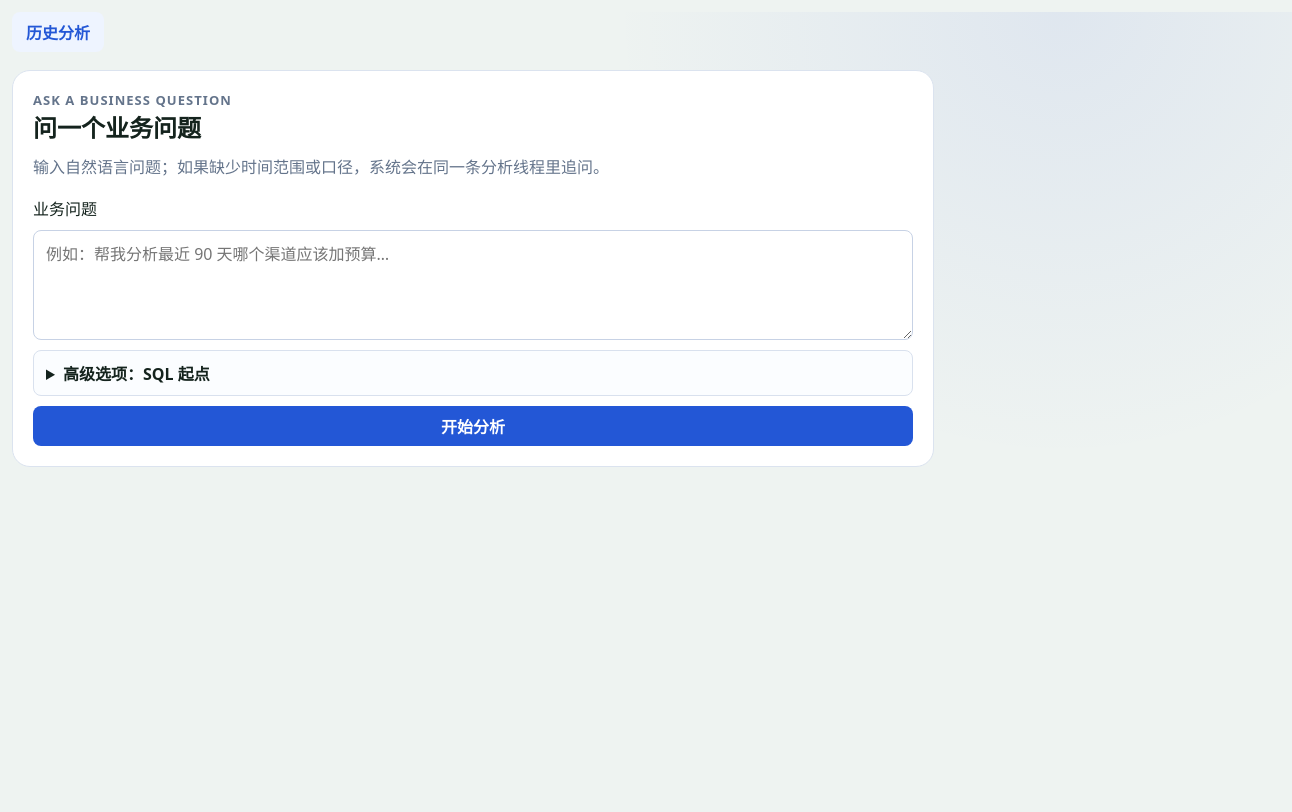
Test: workspace product components › submits analysis questions and stores the run result for the detail page
The width and height of the screenshot is (1292, 812).
Expected: the element "历史分析" is shown, [12,12,104,52]
Expected: the heading "问一个业务问题" is shown, [33,111,201,144]
Type "哪个渠道收入最高？" into the text box labelled "业务问题". click: (473, 285)
box: [33,230,913,340]
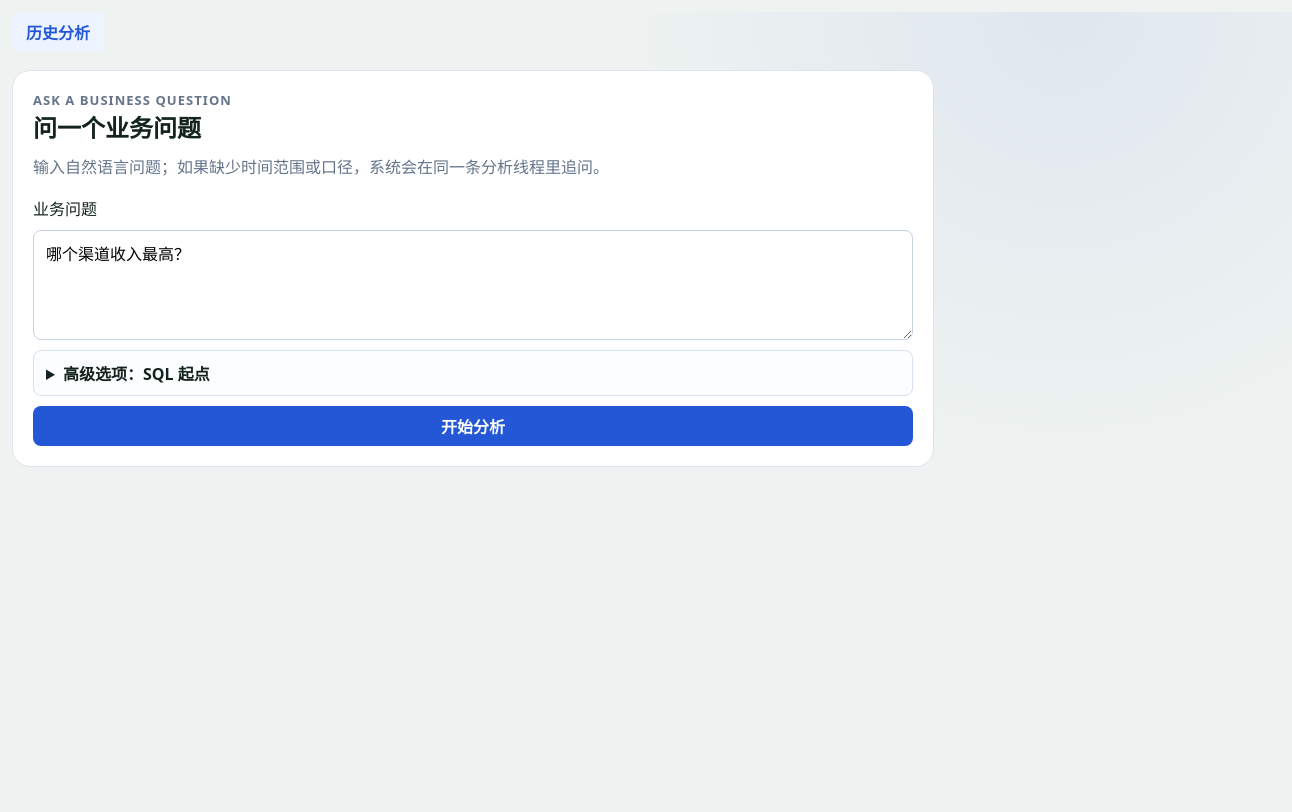
Click the button "开始分析". click: (473, 426)
box: [33,406,913,446]
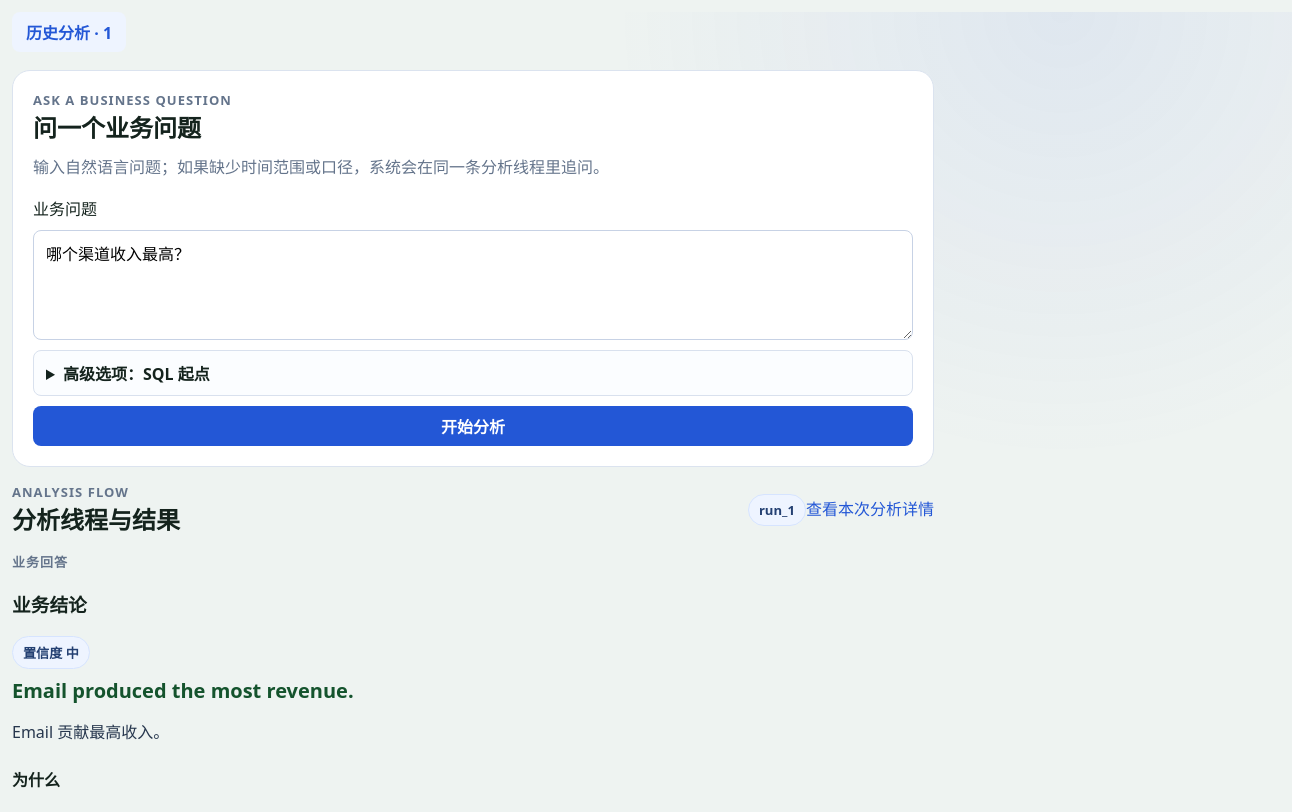
Expected: the heading "业务结论" is shown, [12,592,87,617]
Expected: the text "Email produced the most revenue." is shown, [12,677,354,704]
Expected: the number of elements with class "analysis-result-header" is 1, [12,483,934,536]
